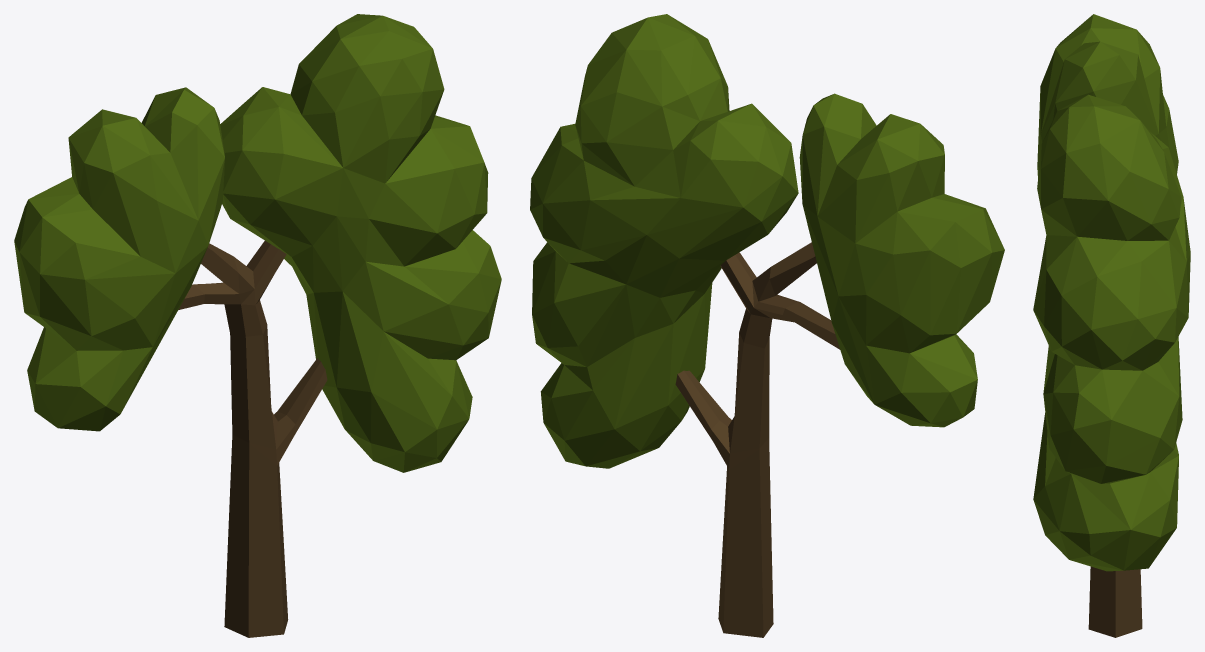
The model's file is TreesAndBushes_091.fbx.
3 views of the same model, side by side, from view 1: azimuth 30°, elevation 25°; view 2: azimuth 150°, elevation 25°; view 3: azimuth 270°, elevation 25° (orthographic). The views are drawn at different scales.
Visible parts, largest first — view 1: TreesAndBushes_091; view 2: TreesAndBushes_091; view 3: TreesAndBushes_091.
Part boxes in pixels (x1,y1,x2,y2): TreesAndBushes_091: (14, 14, 501, 637); TreesAndBushes_091: (530, 14, 1004, 637); TreesAndBushes_091: (1033, 14, 1190, 637).
Size of the model in its own units: 144 by 174 by 43.45.
